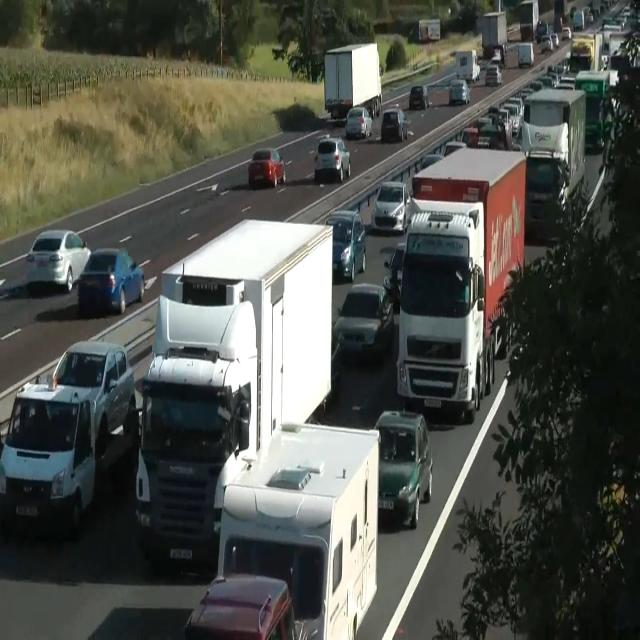bus: (184, 573, 296, 639), (373, 409, 433, 529), (332, 283, 394, 361), (78, 247, 144, 315), (26, 228, 91, 292), (524, 148, 567, 232), (324, 209, 366, 283), (373, 180, 411, 234), (314, 136, 351, 182), (248, 146, 286, 188), (383, 242, 406, 308), (380, 108, 410, 142), (344, 106, 372, 140), (506, 342, 524, 383), (408, 84, 431, 110), (448, 79, 471, 105), (415, 153, 443, 172), (441, 140, 467, 158), (484, 65, 502, 86), (550, 33, 559, 48), (561, 27, 571, 39), (586, 12, 594, 22)
car: (208, 421, 380, 638), (134, 294, 258, 572)
jeep: (0, 378, 98, 538), (51, 338, 137, 444)
minibus: (134, 217, 334, 572), (396, 147, 526, 420), (517, 87, 587, 238), (324, 42, 382, 121), (574, 70, 620, 150), (480, 10, 508, 66), (518, 0, 538, 42), (456, 49, 480, 83), (418, 18, 441, 42), (518, 42, 534, 68)
